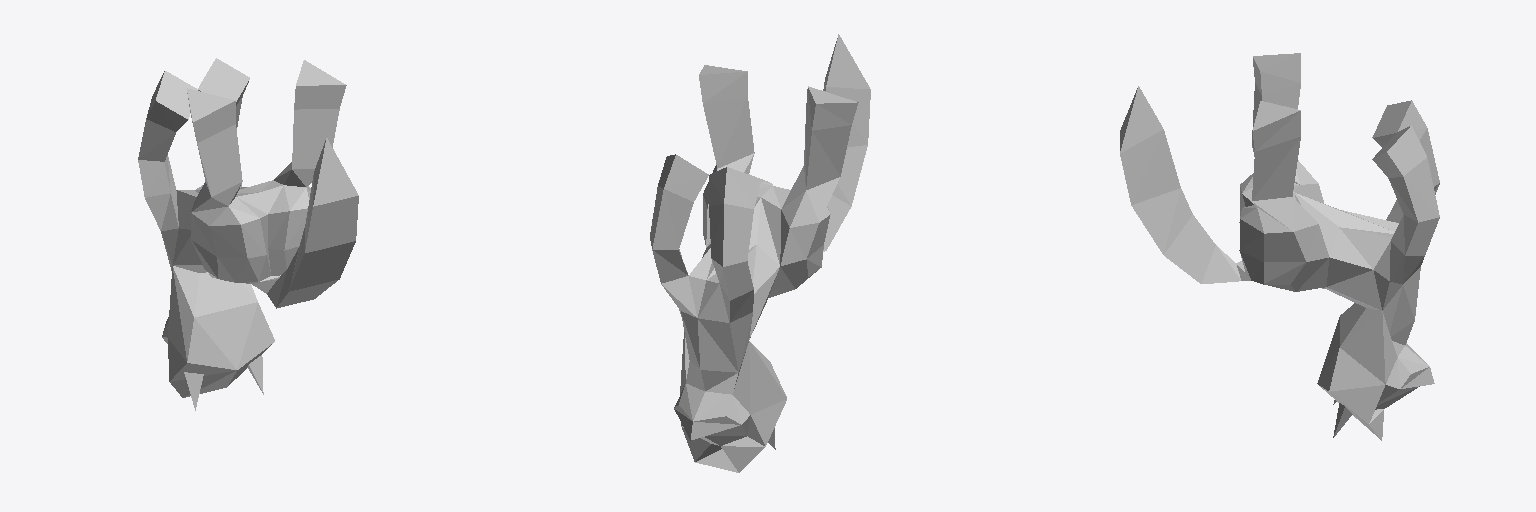
The model's file is PONY_000013.obj.
3 renders of one model, left to right at view 1: azimuth 30°, elevation 25°; view 2: azimuth 150°, elevation 25°; view 3: azimuth 270°, elevation 25°, orthographic.
Parts seen in each view (by area): view 1: pony; view 2: pony; view 3: pony.
Boxes of the visible parts, x1=… form: pony: x1=138, y1=58, x2=358, y2=410; pony: x1=650, y1=34, x2=870, y2=472; pony: x1=1120, y1=53, x2=1439, y2=440.
Size of the model in its own units: 4.69 by 10.16 by 8.46.